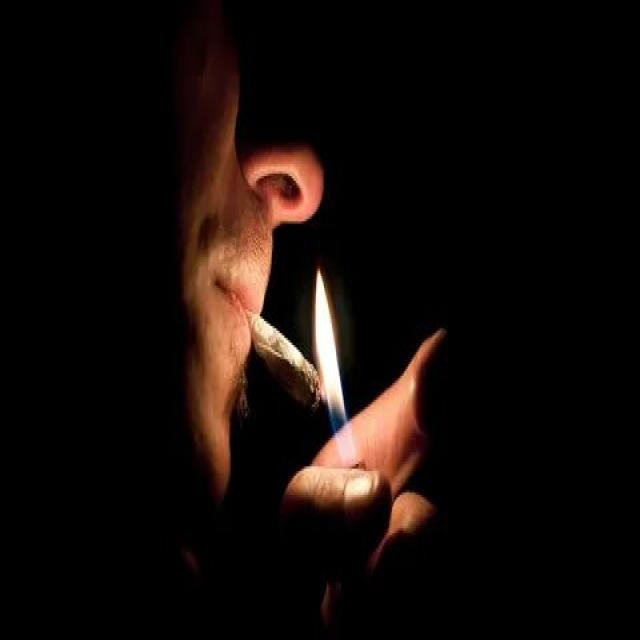smoke: (235, 283, 348, 445)
